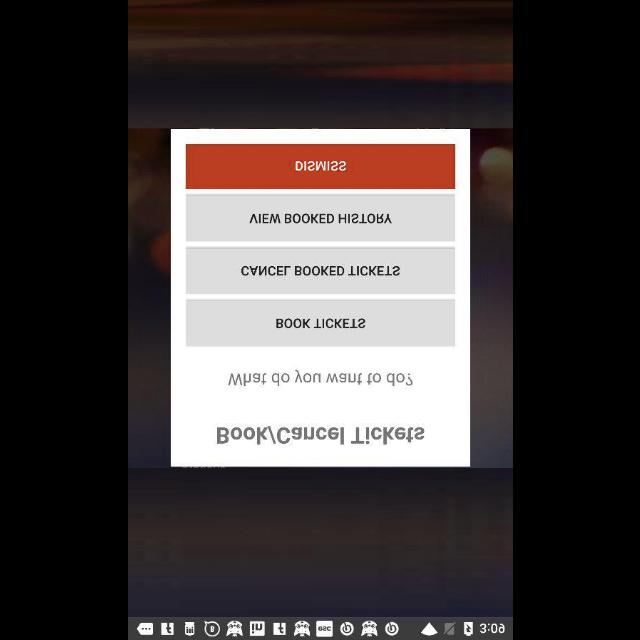panel: (170, 130, 470, 466)
text: (216, 426, 424, 444), (228, 368, 412, 386)
textbutton: (186, 194, 454, 242), (186, 246, 454, 294), (186, 298, 454, 346), (186, 145, 454, 189)
uppertaskbar: (128, 617, 512, 639)
